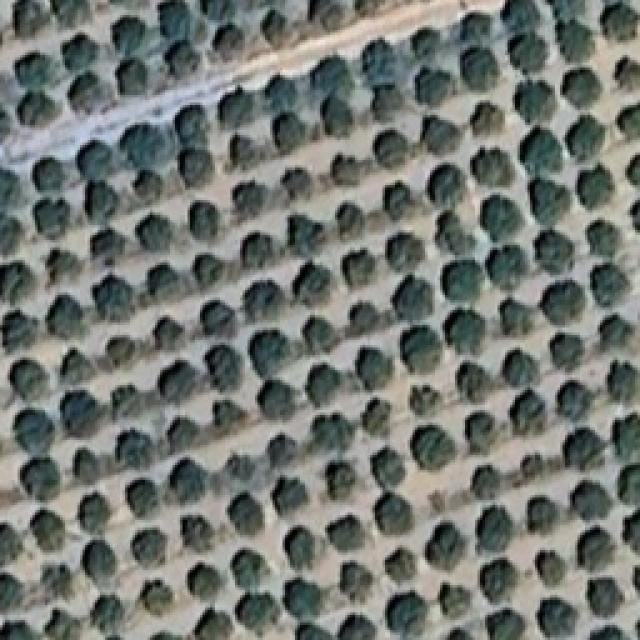Tree: (119, 122, 177, 170), (519, 126, 563, 176), (480, 194, 523, 243), (539, 280, 585, 325), (68, 70, 114, 115), (400, 325, 443, 373), (528, 178, 571, 226), (249, 329, 290, 379), (410, 425, 455, 470), (443, 308, 486, 355), (13, 408, 56, 455), (385, 592, 428, 638), (392, 274, 433, 322), (93, 274, 134, 322), (425, 521, 465, 570), (361, 37, 400, 87), (60, 390, 101, 437), (563, 428, 607, 471), (514, 80, 557, 123), (174, 104, 217, 147), (505, 31, 548, 74), (485, 245, 526, 290), (435, 210, 476, 255), (310, 55, 355, 96), (565, 115, 605, 161), (204, 344, 242, 392), (552, 21, 595, 63), (235, 593, 279, 634), (534, 229, 574, 274), (169, 458, 208, 504), (570, 480, 613, 521), (441, 260, 484, 301), (20, 457, 59, 502), (293, 262, 332, 307), (460, 46, 499, 91), (480, 558, 518, 604), (15, 54, 61, 92), (477, 505, 513, 553), (243, 280, 284, 322), (470, 148, 514, 187), (576, 164, 614, 209), (374, 492, 413, 535), (590, 263, 629, 306), (509, 390, 547, 434), (311, 413, 355, 451), (355, 346, 393, 390), (9, 359, 49, 400), (420, 115, 461, 155), (561, 68, 601, 109), (158, 360, 197, 402), (427, 164, 465, 207), (578, 527, 614, 572), (305, 363, 341, 408), (47, 294, 83, 339), (283, 578, 322, 619), (538, 599, 578, 638), (32, 198, 70, 239), (228, 493, 264, 536), (288, 214, 324, 257), (2, 310, 38, 353), (18, 90, 61, 126), (0, 261, 35, 305), (256, 380, 295, 419), (600, 3, 639, 42), (61, 32, 99, 72), (82, 540, 117, 583), (30, 509, 65, 552), (218, 86, 253, 129), (326, 514, 365, 552), (501, 349, 539, 388), (385, 233, 424, 271), (558, 380, 594, 421), (455, 362, 491, 403), (77, 140, 113, 181), (370, 448, 405, 490), (78, 491, 112, 534), (135, 213, 173, 251), (12, 0, 50, 38), (587, 578, 623, 618), (272, 476, 308, 516), (132, 528, 168, 568), (117, 429, 153, 469), (232, 180, 268, 220), (85, 181, 119, 223), (273, 113, 306, 156), (373, 129, 409, 168), (415, 68, 451, 107), (164, 40, 200, 79), (232, 549, 267, 589), (112, 16, 147, 56), (158, 0, 192, 41), (302, 316, 338, 354), (90, 228, 126, 266), (178, 149, 213, 188), (264, 75, 303, 110), (284, 526, 315, 570), (125, 478, 159, 518), (340, 561, 373, 602), (612, 413, 640, 461), (501, 0, 543, 32), (45, 248, 81, 285), (549, 333, 584, 371), (90, 594, 124, 633), (343, 249, 376, 289), (320, 98, 352, 139), (60, 348, 95, 385), (188, 562, 222, 600), (499, 298, 533, 336), (586, 220, 620, 258), (465, 411, 495, 454), (200, 300, 235, 336), (139, 579, 173, 616), (181, 515, 214, 553), (240, 231, 273, 269), (370, 84, 403, 122), (194, 608, 233, 640), (213, 22, 244, 62), (608, 360, 638, 401), (470, 102, 505, 137), (599, 314, 633, 350), (486, 609, 525, 640), (325, 461, 356, 500), (384, 548, 417, 584), (229, 134, 262, 170), (33, 157, 66, 193), (115, 59, 148, 95), (44, 609, 82, 640), (361, 398, 391, 437), (189, 201, 219, 240), (439, 583, 472, 618), (528, 496, 559, 533), (335, 201, 365, 239), (382, 181, 410, 221), (260, 9, 288, 49), (168, 418, 199, 454), (133, 169, 164, 205), (308, 0, 344, 31), (51, 0, 92, 27), (42, 564, 73, 599), (267, 433, 298, 468), (349, 302, 380, 337), (193, 254, 224, 289), (471, 464, 501, 500), (535, 550, 565, 586), (111, 384, 141, 420), (153, 316, 184, 350), (148, 263, 179, 297), (409, 385, 442, 416), (282, 168, 313, 201), (213, 400, 247, 430), (72, 448, 100, 484), (337, 614, 375, 640), (617, 463, 640, 505), (0, 522, 22, 565), (0, 212, 22, 255), (460, 14, 491, 44), (411, 28, 440, 60), (616, 102, 640, 140), (106, 337, 135, 368), (331, 154, 360, 185), (614, 56, 640, 90), (0, 168, 20, 211), (225, 454, 255, 482), (0, 572, 22, 610), (547, 0, 588, 20), (622, 509, 640, 554), (200, 0, 236, 21), (295, 622, 334, 640), (520, 452, 545, 480), (0, 621, 35, 640), (589, 625, 625, 640), (354, 0, 384, 16), (626, 154, 640, 186), (446, 627, 473, 640), (630, 200, 640, 232), (149, 632, 183, 640), (632, 565, 640, 592), (634, 619, 640, 640), (105, 634, 123, 640)
